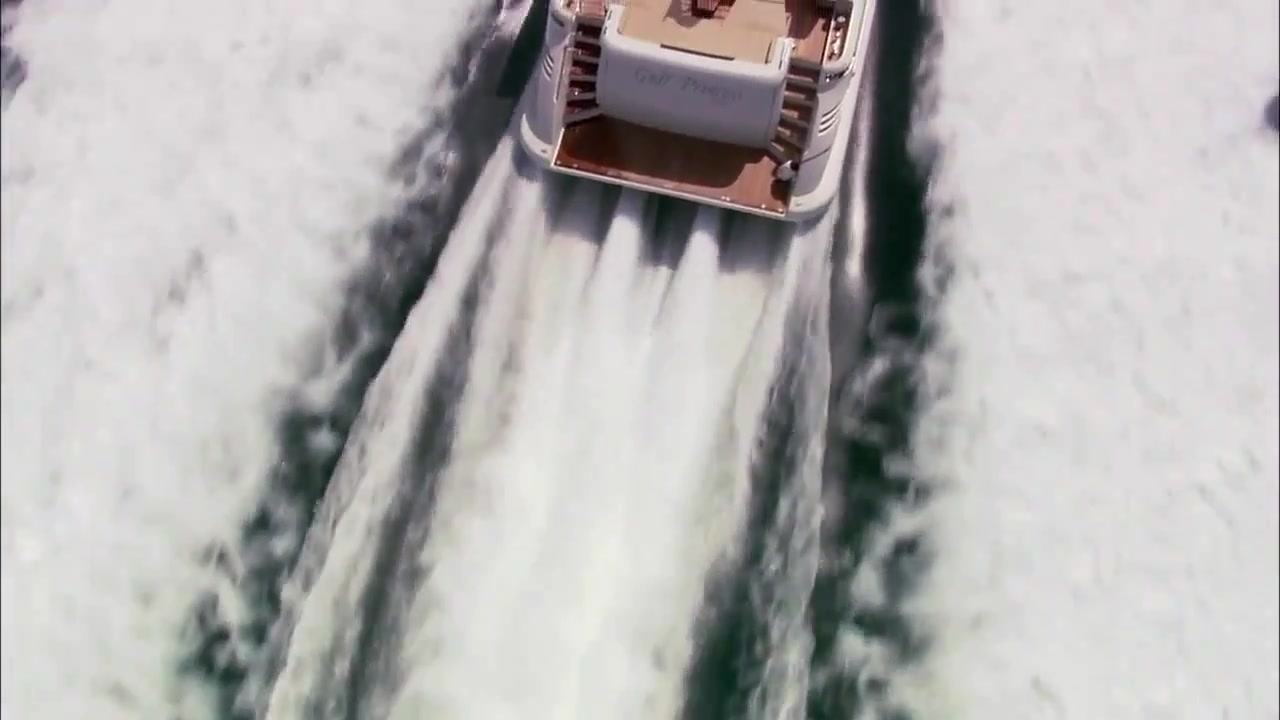boat: (485, 2, 894, 225)
